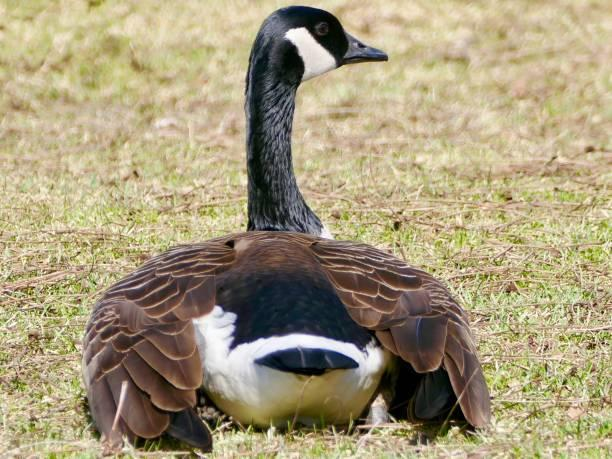Canadian-Goose: (79, 6, 491, 448)
